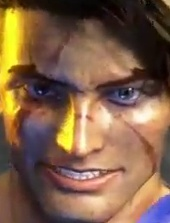kevin: (5, 12, 165, 222)
